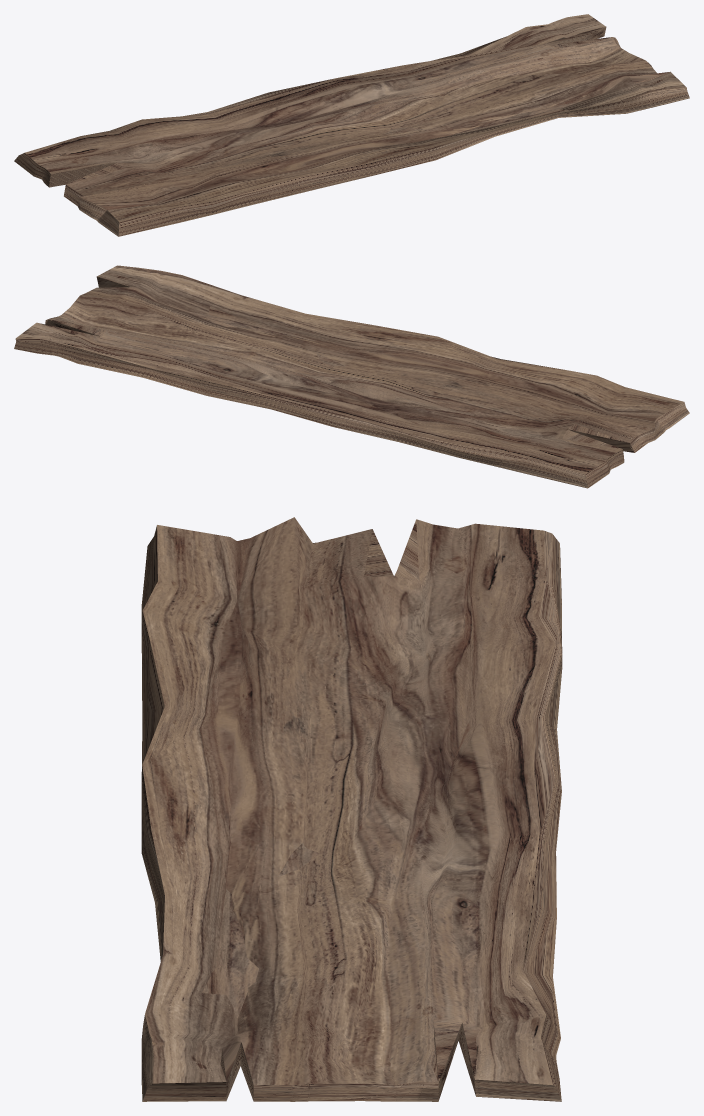
Rendered from Holz.obj.
3 views of the same model, one above another, from view 1: azimuth 30°, elevation 25°; view 2: azimuth 150°, elevation 25°; view 3: azimuth 270°, elevation 25° (orthographic). The views are drawn at different scales.
Visible parts, largest first — view 1: W?rfel; view 2: W?rfel; view 3: W?rfel.
Part boxes in pixels (box(x1,y1,x2,y2)): W?rfel: box(14, 14, 689, 236); W?rfel: box(14, 265, 689, 488); W?rfel: box(141, 517, 562, 1101).
Size of the model in its own units: 345 by 10.28 by 109.
Materials: 1 (1 with a texture image).
